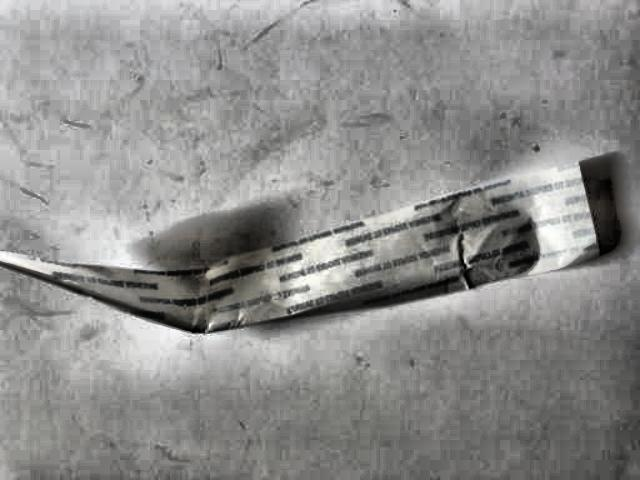Paper: (1, 153, 637, 343)
